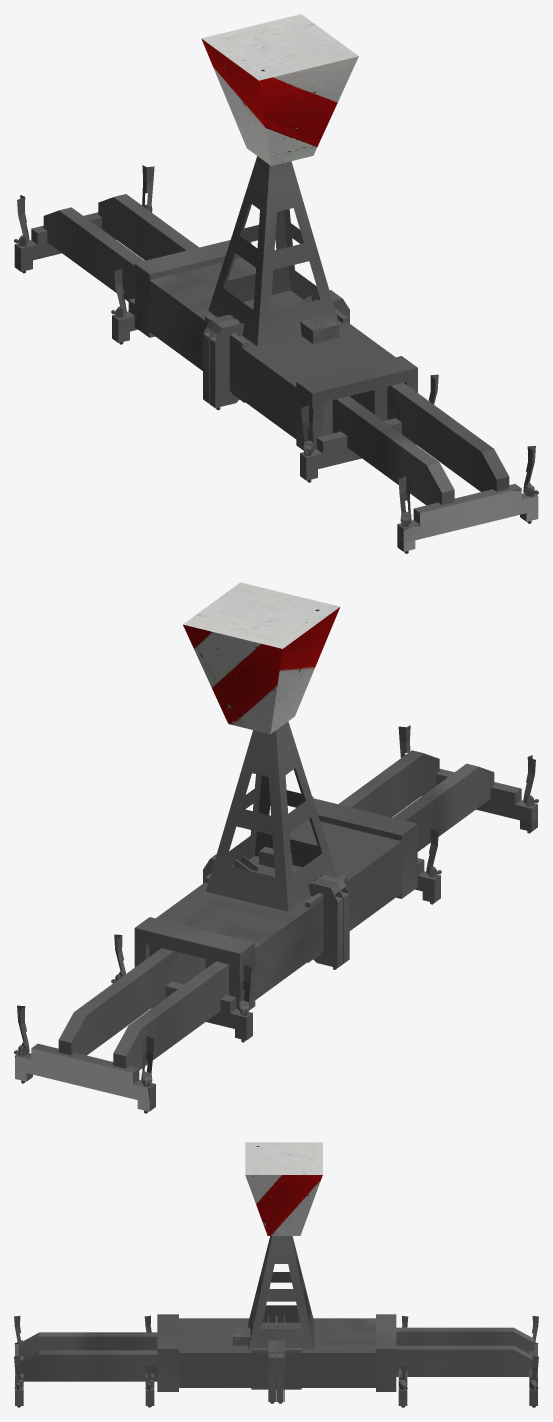
The model's file is hook.obj.
The picture shows the model from 3 angles, top to bottom: view 1: azimuth 30°, elevation 25°; view 2: azimuth 150°, elevation 25°; view 3: azimuth 270°, elevation 25°; orthographic projection. The views are drawn at different scales.
Parts seen in each view (by area): view 1: Liebherr+LHM+500(3), Cube.002; view 2: Liebherr+LHM+500(3), Cube.002; view 3: Liebherr+LHM+500(3), Cube.002.
Boxes of the visible parts, x1,y1,x2,y2 form: Liebherr+LHM+500(3): (14,156,538,553); Cube.002: (201,14,358,165); Liebherr+LHM+500(3): (14,721,538,1113); Cube.002: (183,582,339,734); Liebherr+LHM+500(3): (14,1236,538,1407); Cube.002: (245,1142,322,1235).
Size of the model in its own units: 0.387 by 0.9256 by 1.9.
Materials: 2 (2 with a texture image).
